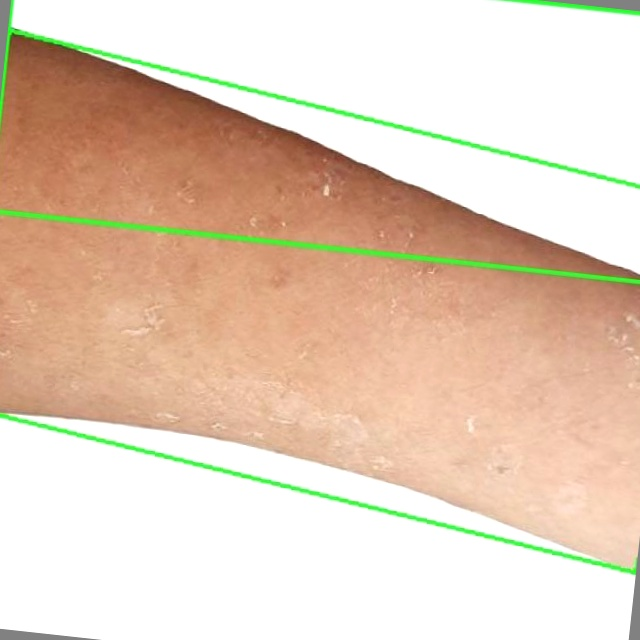Tinea Corporis: (0, 29, 639, 572), (0, 0, 639, 280)
